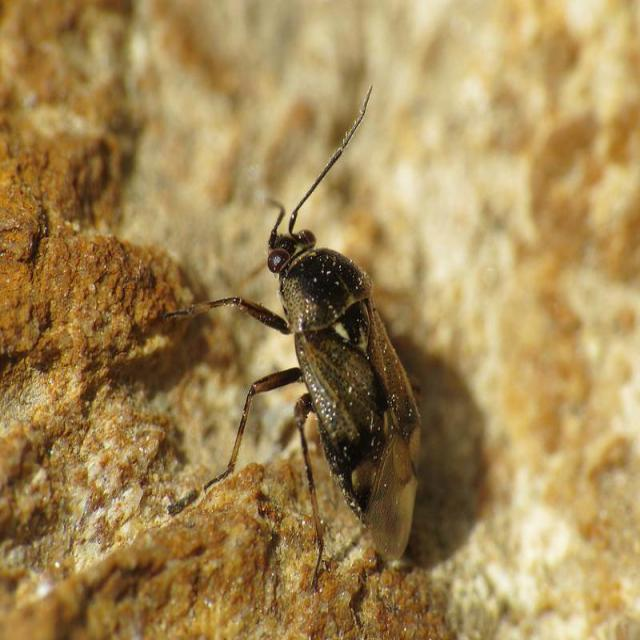Miridae-Adult-: (157, 81, 452, 586)
